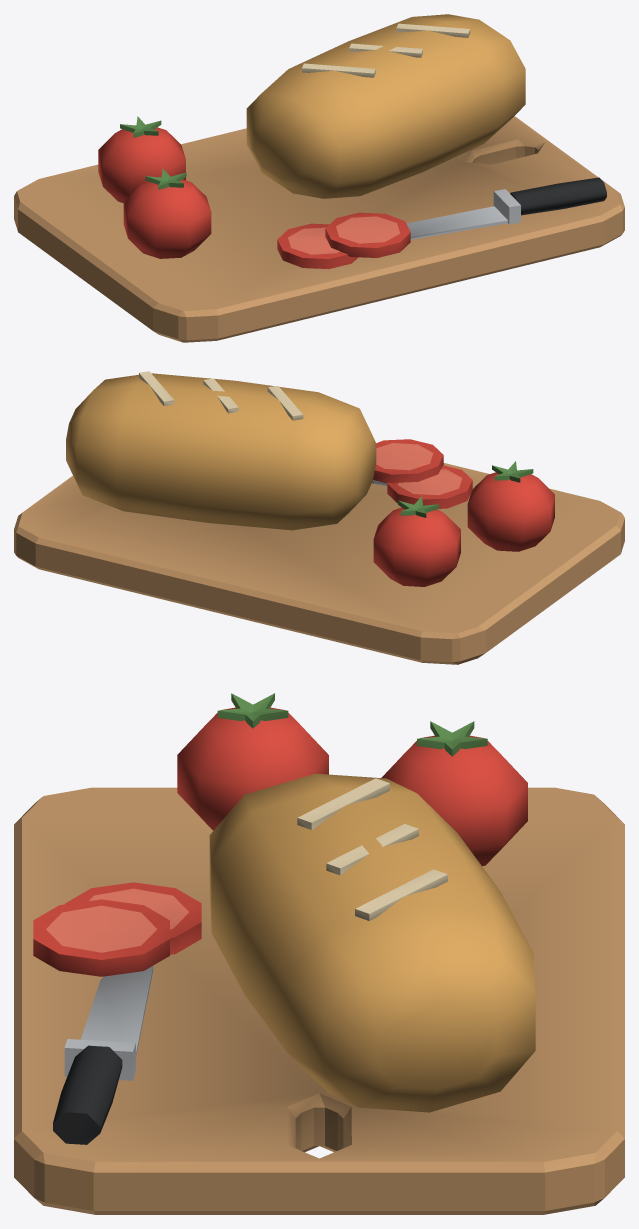
Rendered from cuttingBoard.glb.
3 views of the same model, one above another, from view 1: azimuth 30°, elevation 25°; view 2: azimuth 150°, elevation 25°; view 3: azimuth 270°, elevation 25° (orthographic). The views are drawn at different scales.
Visible parts, largest first — view 1: cuttingBoard; view 2: cuttingBoard; view 3: cuttingBoard.
Part boxes in pixels (box(x1,y1,x2,y2)): cuttingBoard: box(14, 14, 624, 342); cuttingBoard: box(14, 371, 624, 664); cuttingBoard: box(14, 693, 624, 1214).
Bounding box in the file's own units: 0.34 × 0.104 × 0.23.
